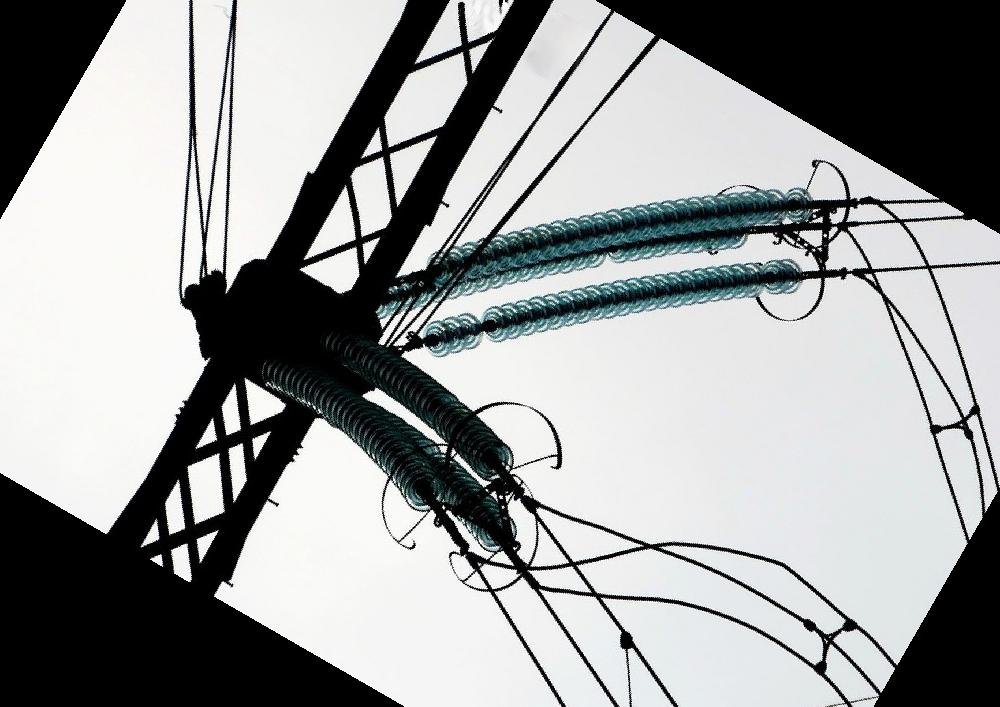insulator: (378, 180, 816, 319), (257, 350, 520, 555), (415, 247, 808, 358), (309, 320, 520, 483)
insulator_stringdrop: (457, 303, 513, 351), (743, 259, 792, 300)
